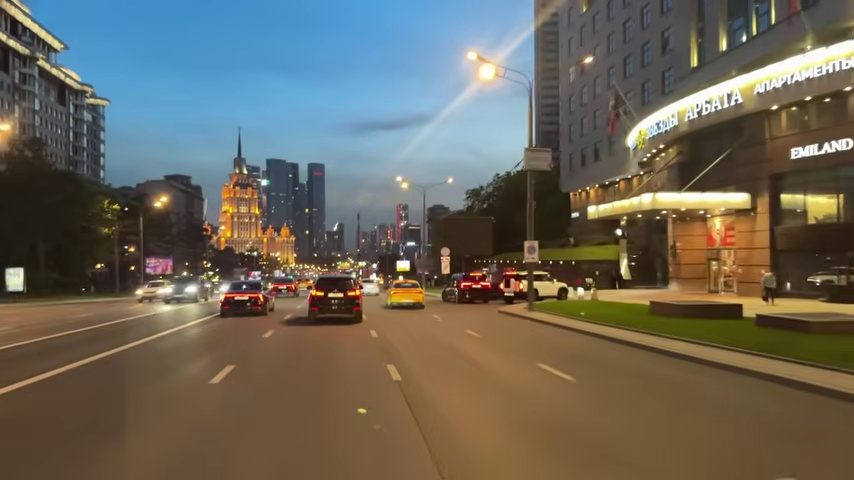acesa: (472, 58, 499, 83), (151, 192, 171, 211), (0, 120, 11, 150), (579, 52, 597, 69), (395, 175, 411, 192), (443, 175, 456, 188)
